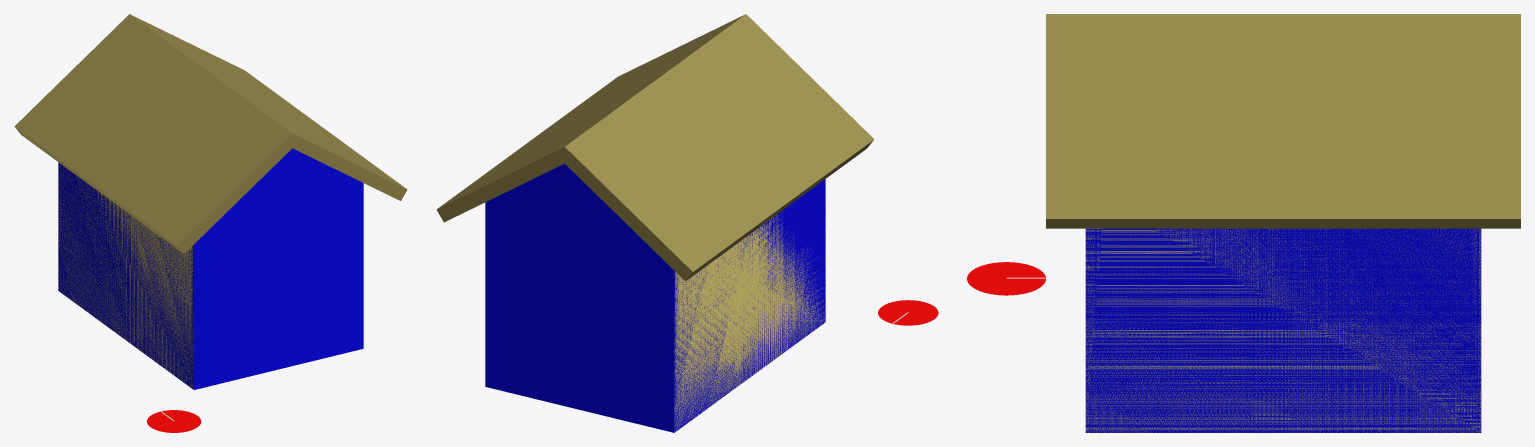
File: result.glb
3 renders of one model, left to right at view 1: azimuth 30°, elevation 25°; view 2: azimuth 150°, elevation 25°; view 3: azimuth 270°, elevation 25°, orthographic. The views are drawn at different scales.
Visible parts, largest first — view 1: b1d5ce24-46f7-4ceb-82c8-ce9150c93a9a__undefined, 1ae9d5d7-1cd0-418f-9ed9-bd8f3b579932__undefined (×2), ed4ed0e9-9153-474b-91aa-b5d526b74cd5__undefined, 3db7bebd-7a4c-49fc-a287-177f132e0684__Circle; view 2: b1d5ce24-46f7-4ceb-82c8-ce9150c93a9a__undefined, 1ae9d5d7-1cd0-418f-9ed9-bd8f3b579932__undefined (×2), ed4ed0e9-9153-474b-91aa-b5d526b74cd5__undefined, 3db7bebd-7a4c-49fc-a287-177f132e0684__Circle; view 3: 1ae9d5d7-1cd0-418f-9ed9-bd8f3b579932__undefined, b1d5ce24-46f7-4ceb-82c8-ce9150c93a9a__undefined, ed4ed0e9-9153-474b-91aa-b5d526b74cd5__undefined, 3db7bebd-7a4c-49fc-a287-177f132e0684__Circle.
Part boxes in pixels (x1,y1,x2,y2): b1d5ce24-46f7-4ceb-82c8-ce9150c93a9a__undefined: [58, 148, 363, 389]; 1ae9d5d7-1cd0-418f-9ed9-bd8f3b579932__undefined (×2): [14, 14, 407, 253]; ed4ed0e9-9153-474b-91aa-b5d526b74cd5__undefined: [58, 165, 193, 389]; 3db7bebd-7a4c-49fc-a287-177f132e0684__Circle: [147, 410, 201, 432]; b1d5ce24-46f7-4ceb-82c8-ce9150c93a9a__undefined: [485, 163, 825, 432]; 1ae9d5d7-1cd0-418f-9ed9-bd8f3b579932__undefined (×2): [436, 14, 874, 281]; ed4ed0e9-9153-474b-91aa-b5d526b74cd5__undefined: [674, 182, 825, 431]; 3db7bebd-7a4c-49fc-a287-177f132e0684__Circle: [878, 300, 938, 325]; 1ae9d5d7-1cd0-418f-9ed9-bd8f3b579932__undefined: [1046, 14, 1520, 228]; b1d5ce24-46f7-4ceb-82c8-ce9150c93a9a__undefined: [1085, 228, 1481, 432]; ed4ed0e9-9153-474b-91aa-b5d526b74cd5__undefined: [1085, 228, 1481, 432]; 3db7bebd-7a4c-49fc-a287-177f132e0684__Circle: [967, 262, 1045, 295].
Size of the model in its own units: 575 by 500 by 700.
